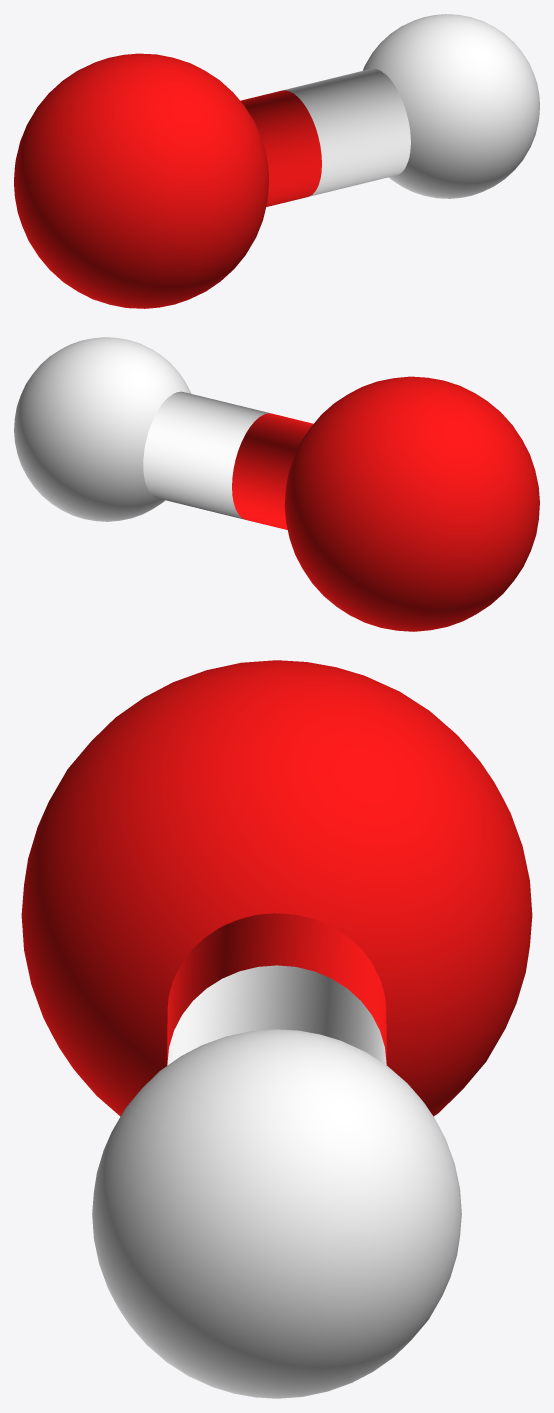
Rendered from hydroxide.obj.
3 renders of one model, top to bottom at view 1: azimuth 30°, elevation 25°; view 2: azimuth 150°, elevation 25°; view 3: azimuth 270°, elevation 25°, orthographic. The views are drawn at different scales.
Parts seen in each view (by area): view 1: O1_Atom, H2_Atom, Cylinder2, Cylinder1; view 2: O1_Atom, H2_Atom, Cylinder2, Cylinder1; view 3: O1_Atom, H2_Atom, Cylinder2, Cylinder1.
Part boxes in pixels (x1,y1,x2,y2): O1_Atom: (14,53,268,308); H2_Atom: (362,14,539,198); Cylinder2: (282,68,410,196); Cylinder1: (240,90,321,206); O1_Atom: (284,376,539,631); H2_Atom: (14,337,191,521); Cylinder2: (143,391,271,519); Cylinder1: (232,413,313,529); O1_Atom: (21,660,532,1116); H2_Atom: (92,1029,461,1398); Cylinder2: (167,965,386,1065); Cylinder1: (167,913,386,1063).
Size of the model in its own units: 1.57 by 0.699 by 0.699.
